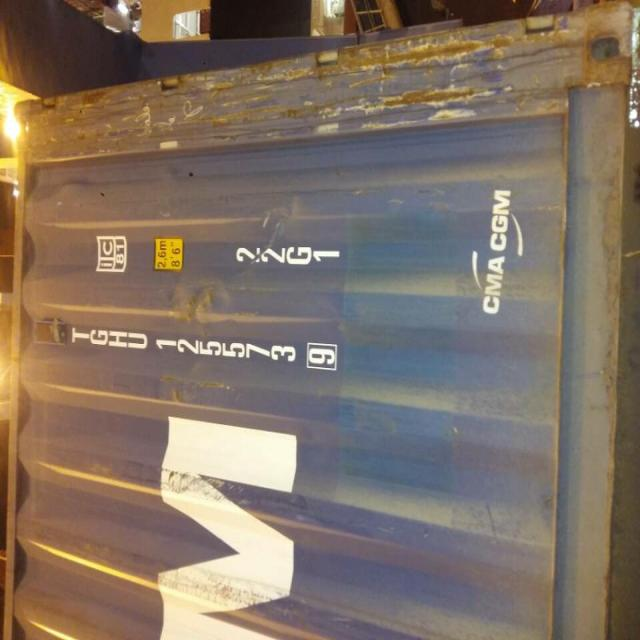rust: (295, 35, 518, 82), (347, 85, 498, 117), (583, 24, 633, 87), (76, 89, 115, 110)
